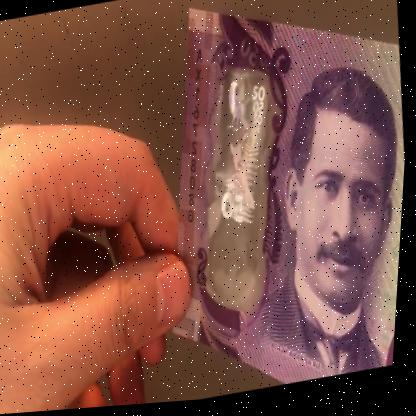50F: (198, 76, 289, 291)
